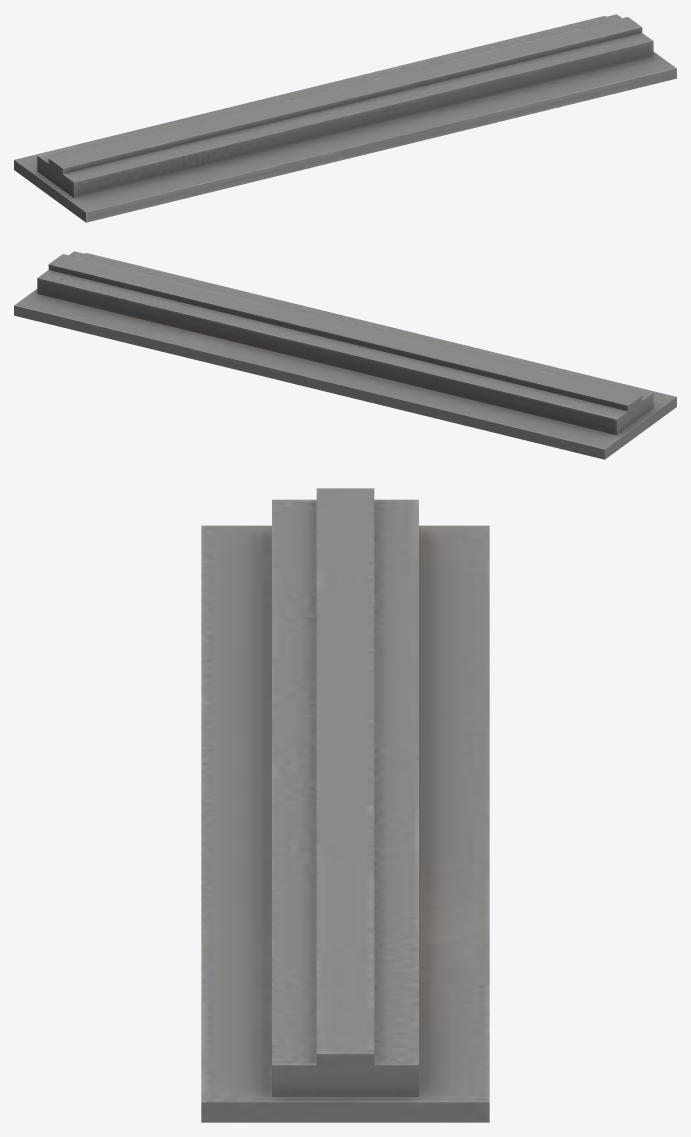
The model's file is SM_lamp.glb.
3 views of the same model, one above another, from view 1: azimuth 30°, elevation 25°; view 2: azimuth 150°, elevation 25°; view 3: azimuth 270°, elevation 25° (orthographic). The views are drawn at different scales.
Parts seen in each view (by area): view 1: SM_lamp; view 2: SM_lamp; view 3: SM_lamp.
Boxes of the visible parts, x1,y1,x2,y2 form: SM_lamp: (14, 14, 676, 222); SM_lamp: (14, 251, 676, 459); SM_lamp: (201, 488, 489, 1122).
Size of the model in its own units: 3 by 0.1523 by 0.6336.
Materials: 1 (1 with a texture image).
